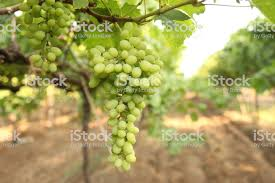grapes: (92, 24, 156, 169), (26, 3, 68, 82)
